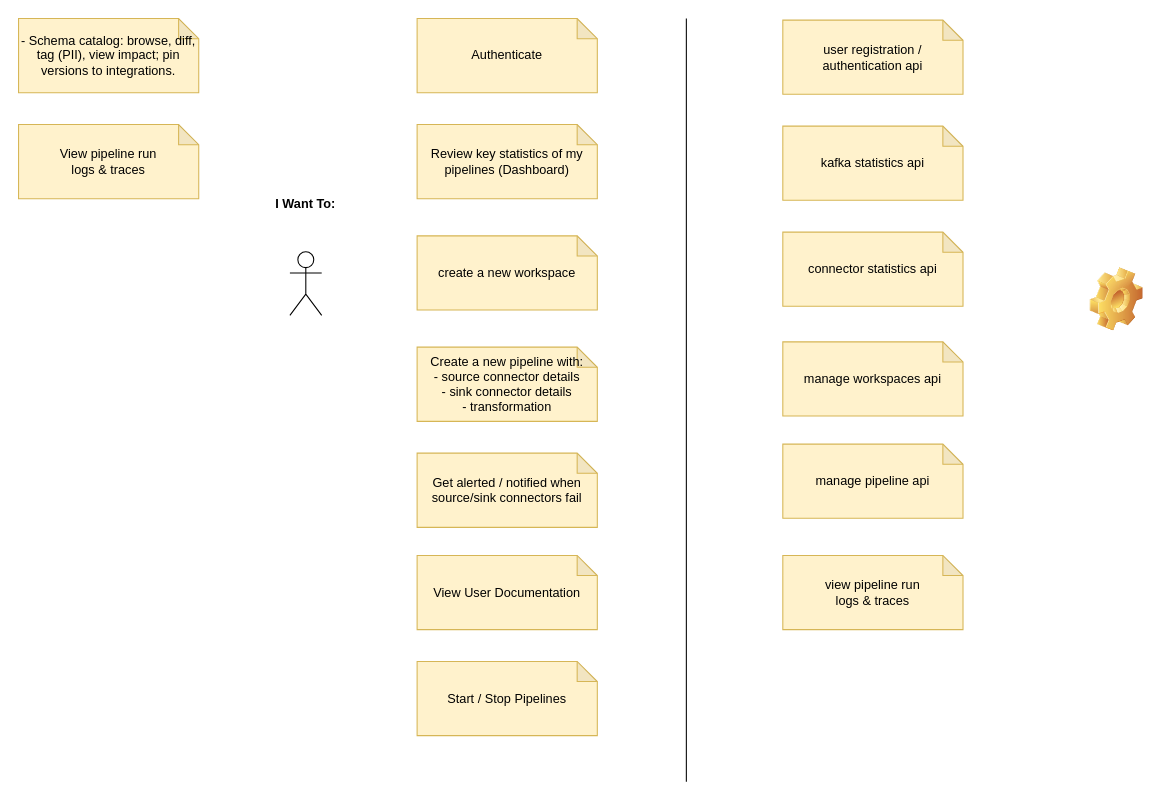
Some shapes in this 1167 by 801 pixel diagram are drawn without their labels. The shapes that lost their labels are listed below. From the top down, each one's centre as x and y in pixels, then its label:
point (305, 283): End User
point (1116, 299): Control API (Backend)
